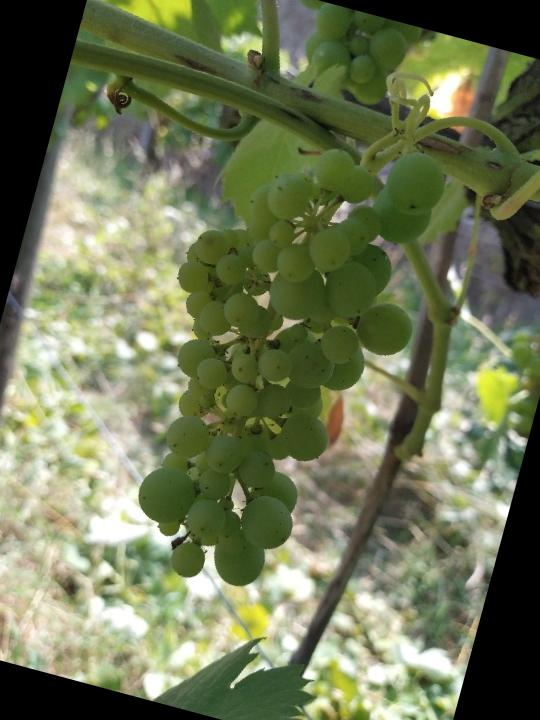grape: (97, 95, 459, 621)
